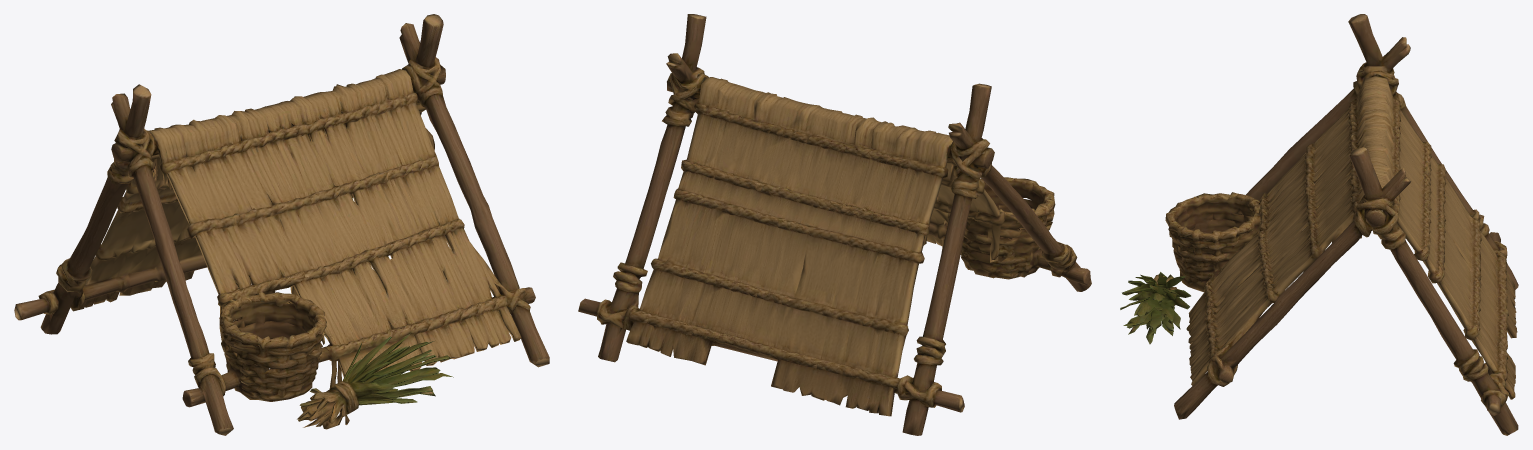
File: Foraging Tent (East Asian).fbx
The picture shows the model from 3 angles, left to right: view 1: azimuth 30°, elevation 25°; view 2: azimuth 150°, elevation 25°; view 3: azimuth 270°, elevation 25°; orthographic projection. The views are drawn at different scales.
Parts seen in each view (by area): view 1: tripo_node_640be483; view 2: tripo_node_640be483; view 3: tripo_node_640be483.
Part boxes in pixels (left/top/right/bottom): tripo_node_640be483: left=14, top=14, right=549, bottom=435; tripo_node_640be483: left=578, top=14, right=1091, bottom=435; tripo_node_640be483: left=1120, top=14, right=1518, bottom=435.
Bounding box in the file's own units: 1 × 0.7384 × 0.9471.
